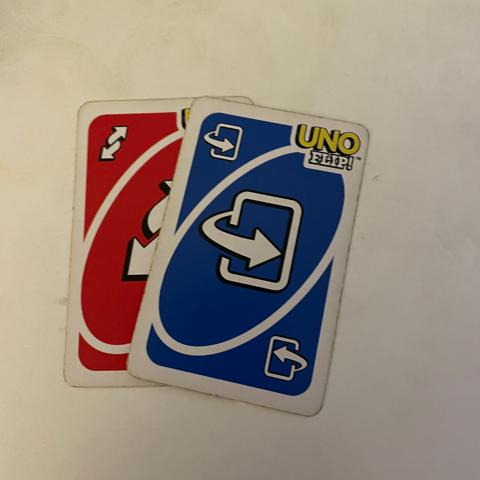lblueflip-20: (198, 115, 251, 178)
lredrevers-20: (86, 107, 145, 176)
